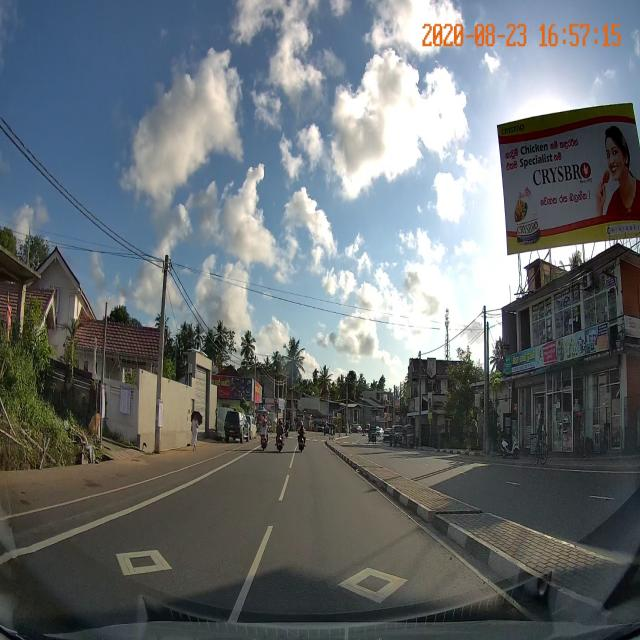Romb: (334, 564, 410, 606), (113, 547, 176, 579)
